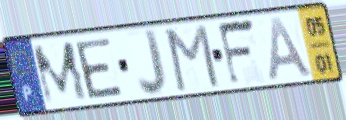A: (267, 16, 316, 83)
E: (72, 35, 126, 101)
F: (215, 16, 258, 89)
J: (136, 27, 170, 99)
M: (30, 38, 91, 108), (164, 22, 222, 94)
